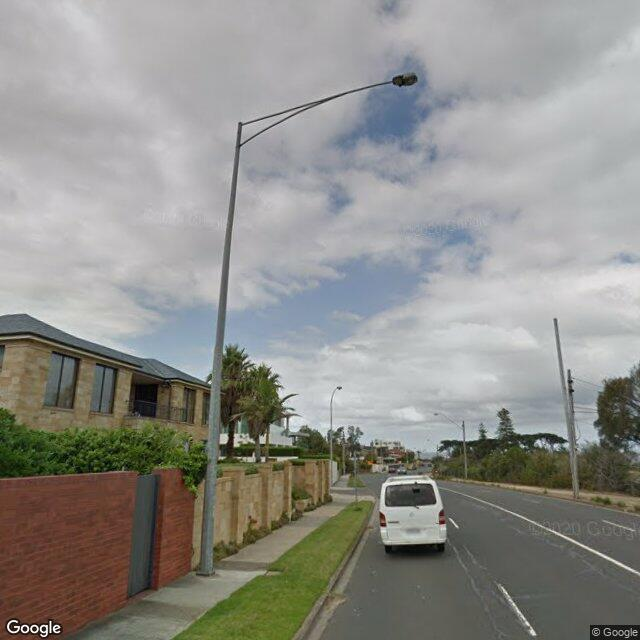steel-pole: (198, 122, 242, 576), (554, 318, 580, 494), (328, 402, 333, 487), (462, 421, 468, 478)
streetlight: (242, 73, 418, 147), (433, 412, 462, 429), (331, 385, 343, 405)
